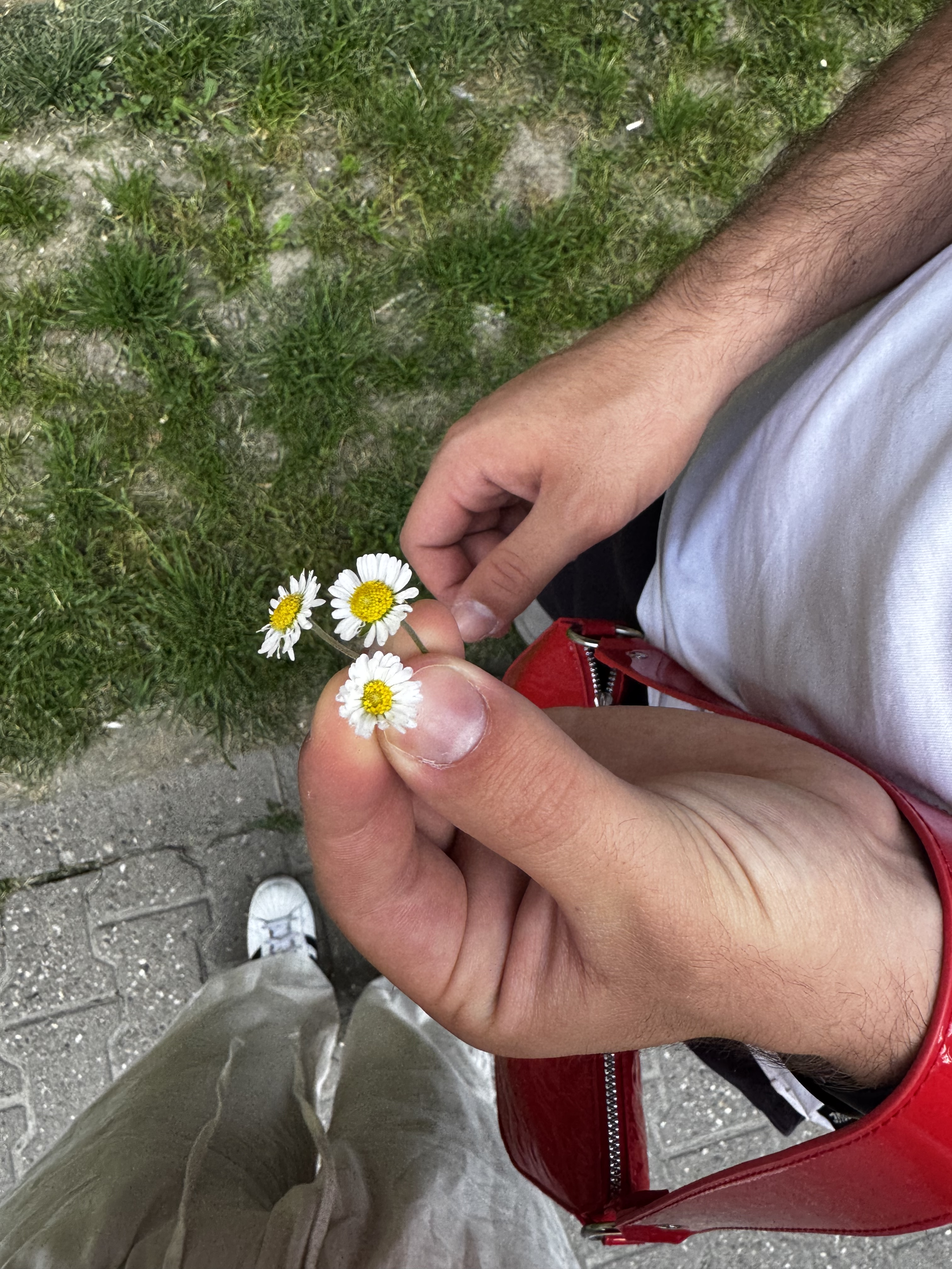daisy: (329, 547, 411, 664), (248, 571, 328, 666), (338, 657, 422, 741)
